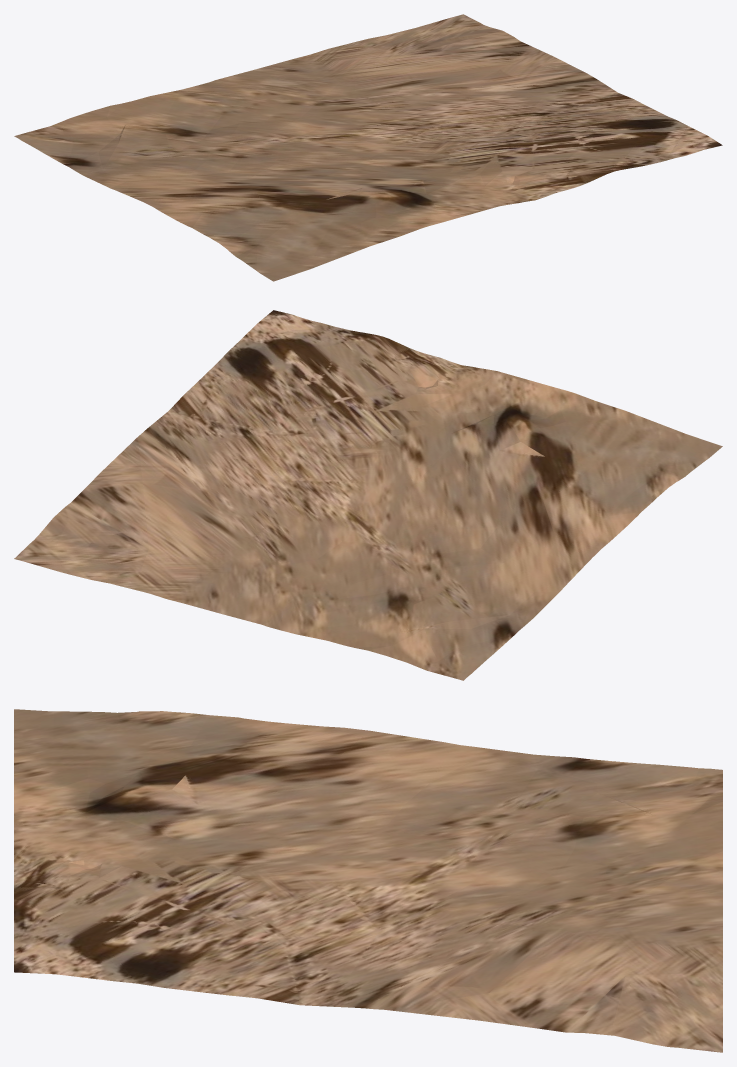
The picture shows the model from 3 angles, top to bottom: view 1: azimuth 30°, elevation 25°; view 2: azimuth 150°, elevation 25°; view 3: azimuth 270°, elevation 25°; orthographic projection. The views are drawn at different scales.
Bounding box in the file's own units: 4.18 × 0.6374 × 4.18.
3 materials, 3 textured.
